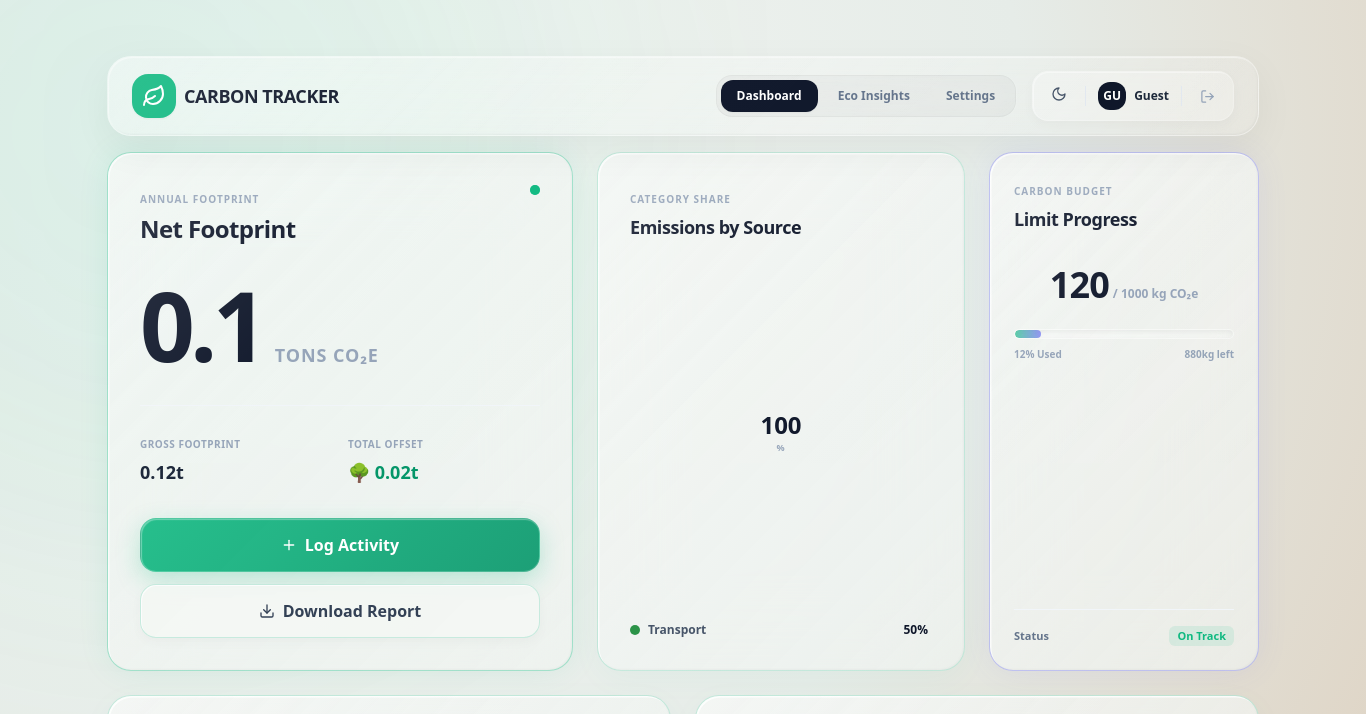
Test case: App Component › switches tabs correctly when clicked
The image size is (1366, 714).
Expected: the heading "Net Footprint" is shown, left=140, top=213, right=296, bottom=245
Click Eco Insights tab
Click the button "Eco Insights". click: (874, 96)
box: left=822, top=80, right=926, bottom=112
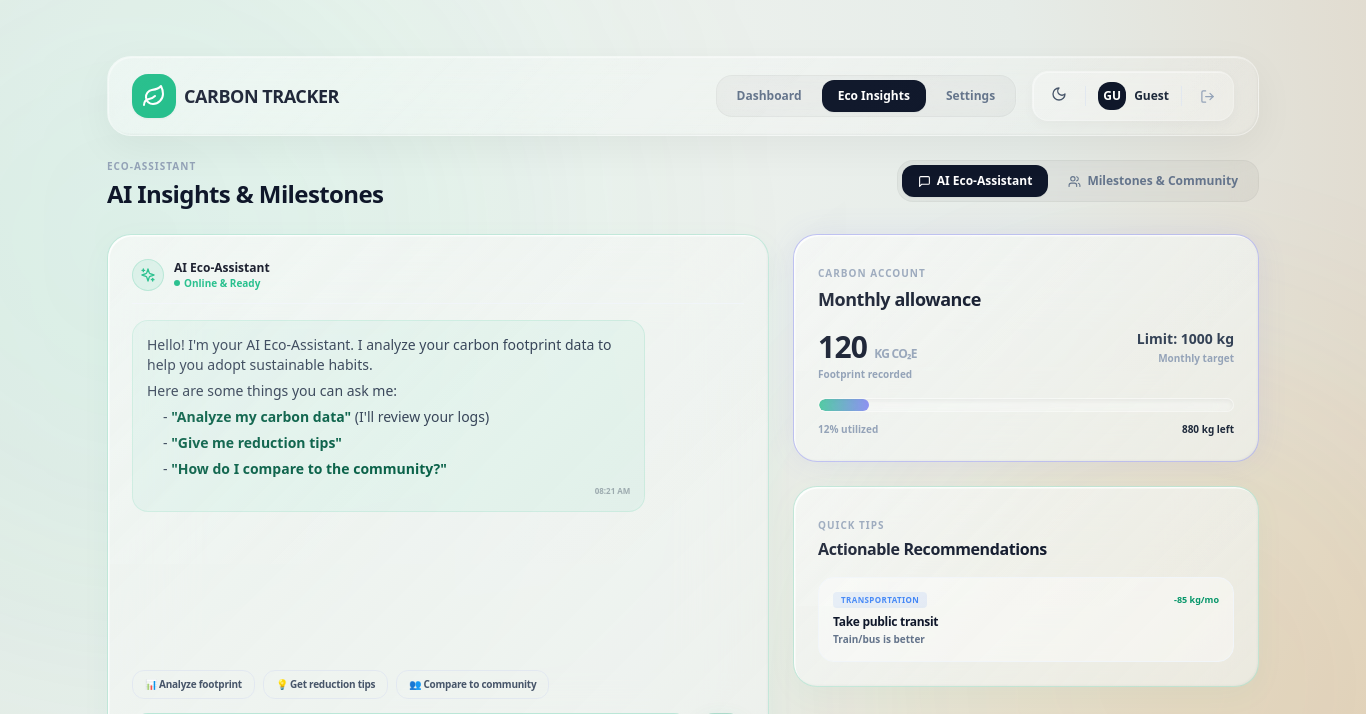
Result: the heading "AI Insights & Milestones" is shown at left=107, top=178, right=383, bottom=210
Result: the text "AI Eco-Assistant" is shown at left=937, top=173, right=1032, bottom=189
Click Settings tab
Click the button "Settings". click: (970, 96)
box: left=930, top=80, right=1011, bottom=112
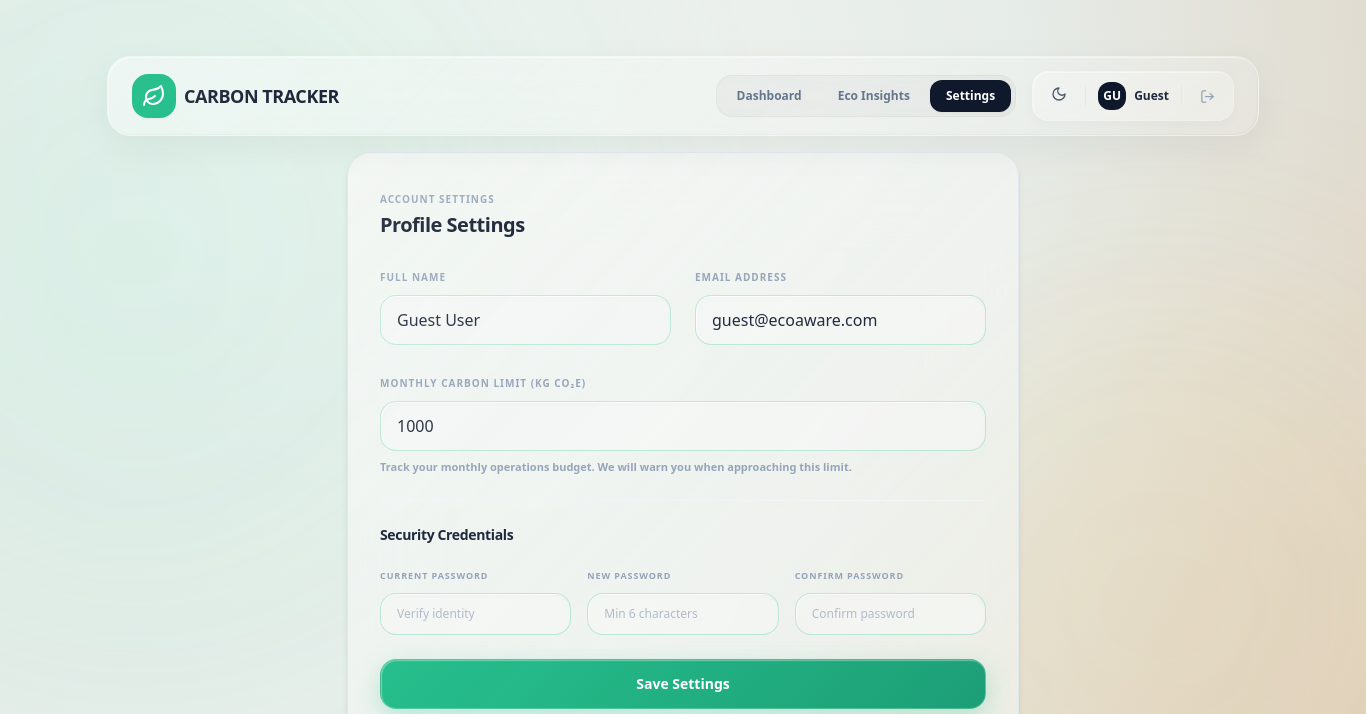
Result: the heading "Profile Settings" is shown at left=380, top=211, right=525, bottom=238
Result: the text "Monthly Carbon Limit (kg CO₂e)" is shown at left=380, top=376, right=586, bottom=390
